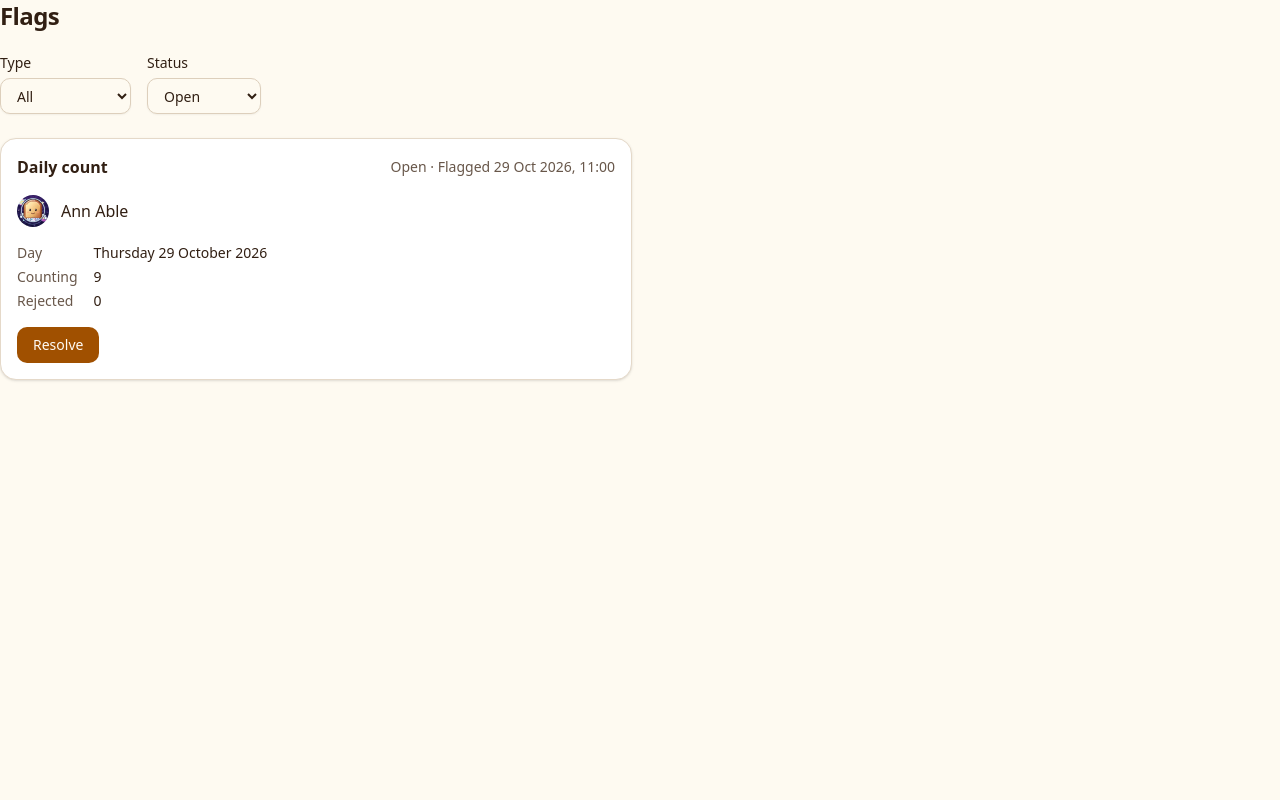
Scenario: AdminFlagsPage › keeps the dialog open with the error when resolving fails
Click the button with aria-label "Resolve the flag on Ann Able" at (58, 345), box [17, 327, 99, 363]
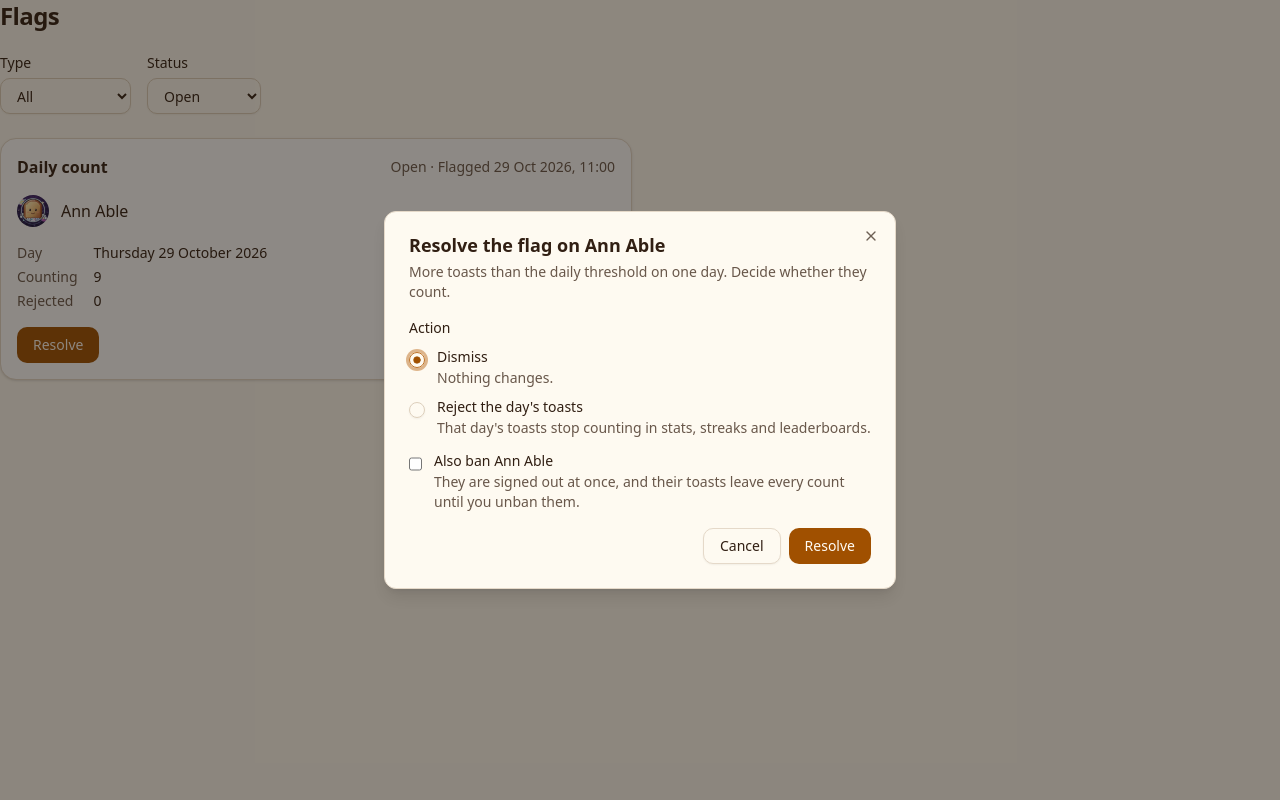
Click the button "Resolve" at (830, 546), box [789, 528, 871, 564]
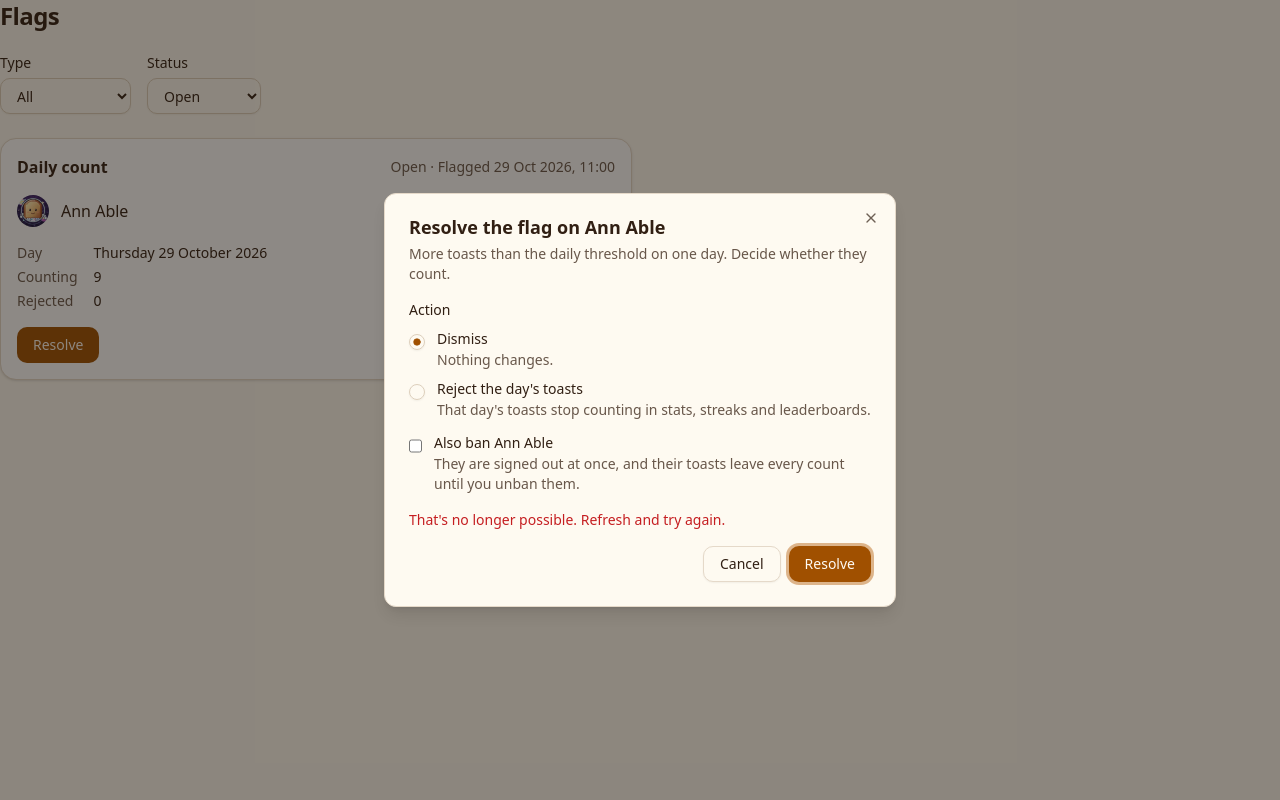
Expected: the message shows "That's no longer possible.", [409, 510, 725, 529]
